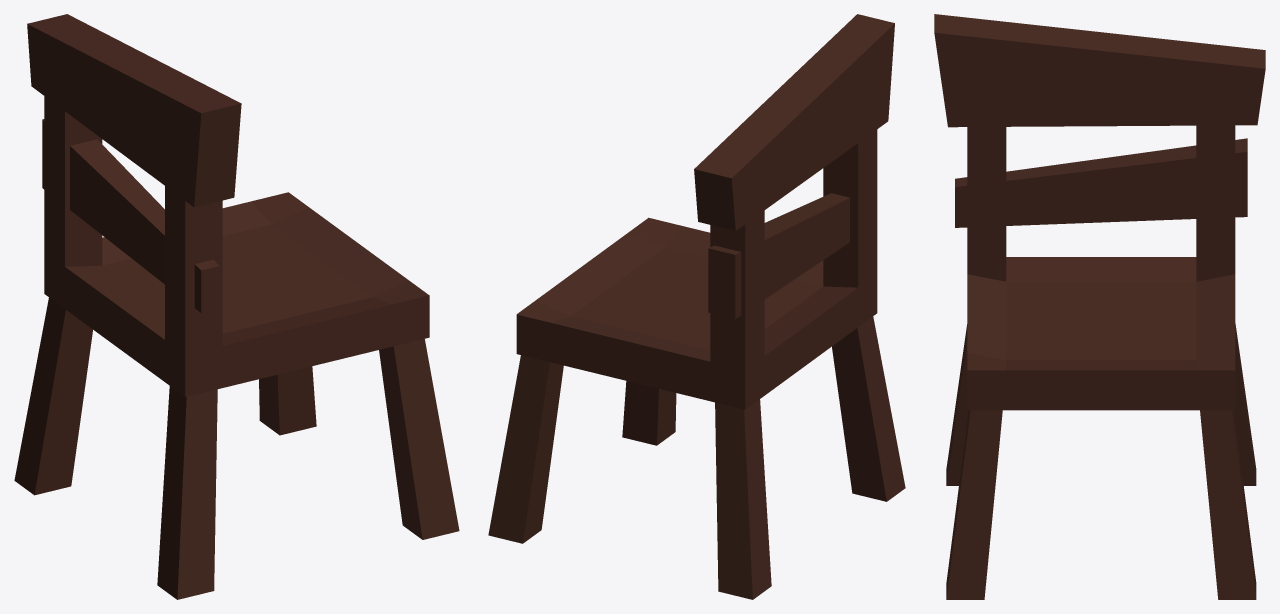
File: Chair.fbx
3 views of the same model, side by side, from view 1: azimuth 30°, elevation 25°; view 2: azimuth 150°, elevation 25°; view 3: azimuth 270°, elevation 25° (orthographic). The views are drawn at different scales.
Visible parts, largest first — view 1: tsjer; view 2: tsjer; view 3: tsjer.
Boxes of the visible parts, left/top/right/bottom form: tsjer: left=14, top=14, right=459, bottom=599; tsjer: left=488, top=14, right=905, bottom=599; tsjer: left=934, top=14, right=1265, bottom=599.
Size of the model in its own units: 699 by 1153 by 748.
